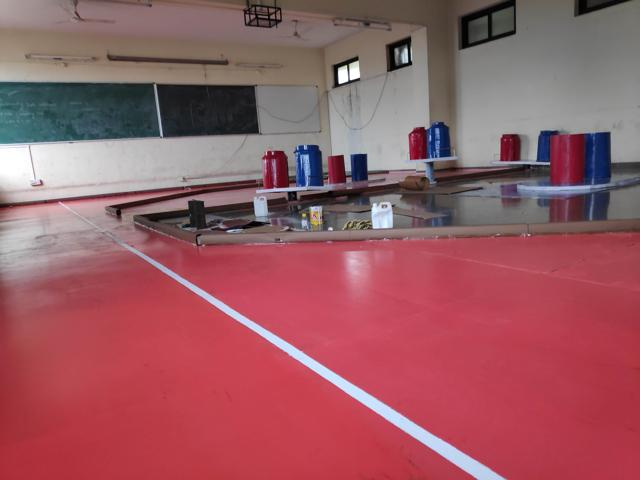Blue: (586, 133, 611, 186), (426, 120, 452, 160), (296, 146, 322, 186), (535, 129, 550, 161), (350, 154, 366, 180)
Red: (548, 134, 584, 187), (261, 150, 291, 187), (499, 131, 520, 162), (409, 123, 426, 158), (327, 154, 345, 184)
